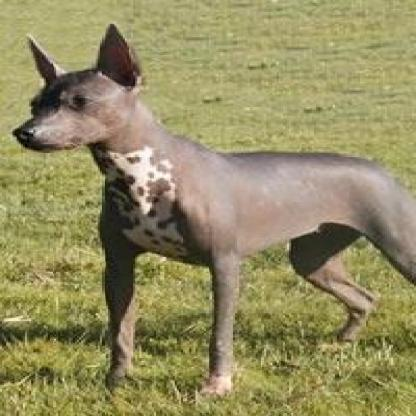Mexican_hairless: (8, 23, 412, 392)
